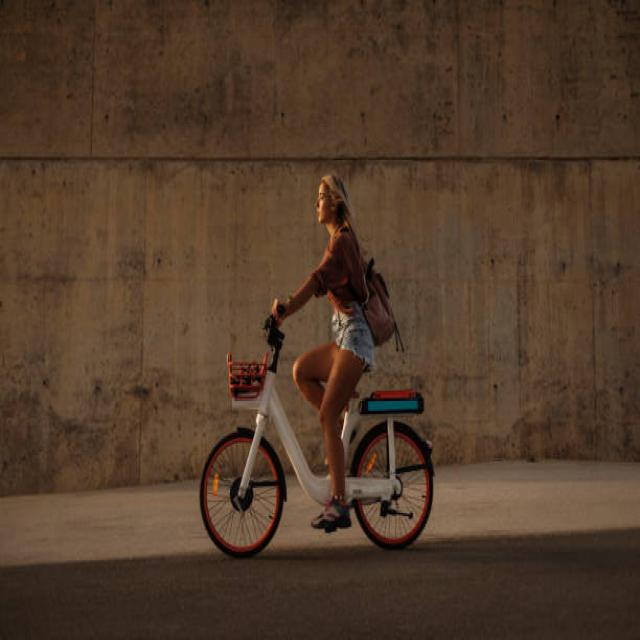bicycle: (200, 176, 434, 557)
